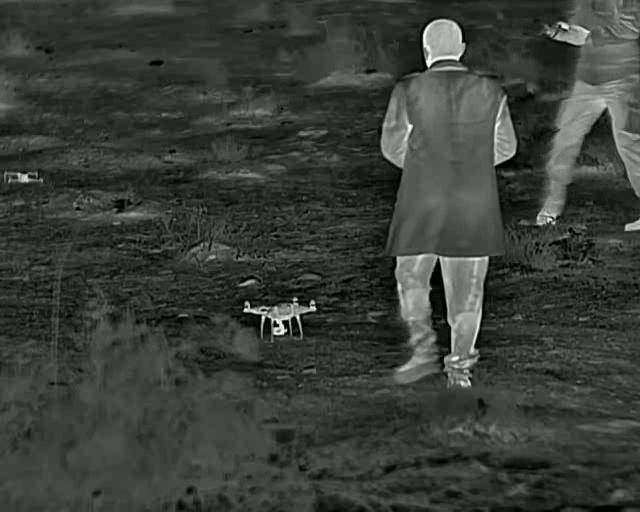DJI-Phantom: (241, 296, 319, 341)
